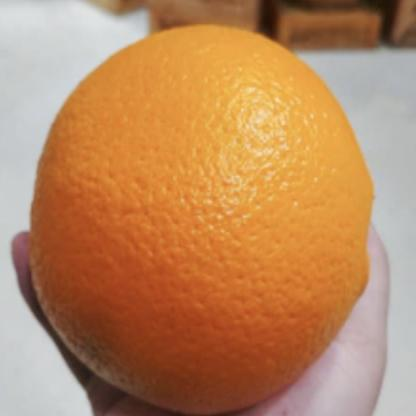fresh: (29, 28, 371, 416)
